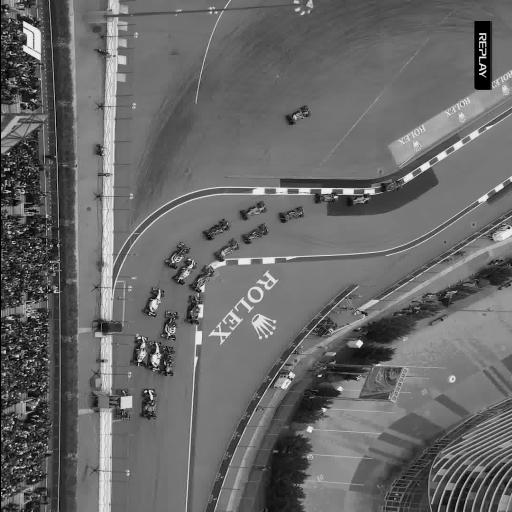f1_car: (164, 242, 190, 269), (188, 265, 213, 292), (142, 287, 164, 317), (172, 258, 196, 285), (160, 310, 179, 341), (202, 219, 230, 240), (214, 238, 238, 262), (242, 224, 268, 243), (185, 295, 202, 324), (239, 202, 266, 220), (131, 336, 147, 366), (286, 105, 310, 125), (159, 346, 174, 377), (140, 390, 156, 419), (279, 206, 303, 223), (147, 340, 160, 371), (347, 193, 370, 206), (381, 181, 402, 192), (315, 193, 338, 203), (115, 409, 130, 421), (116, 389, 129, 396)
